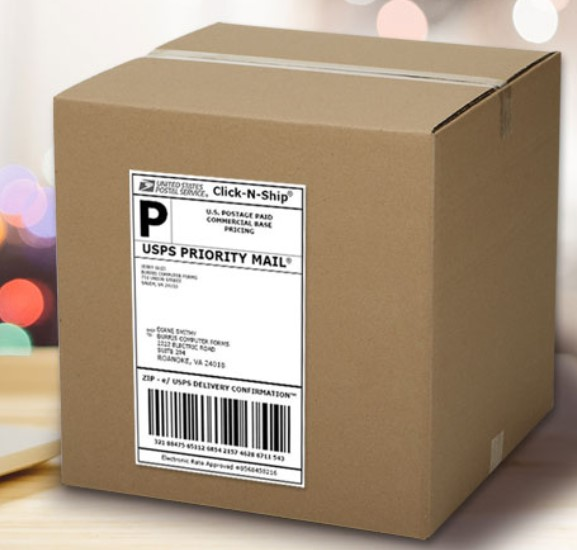Parcel: (53, 97, 435, 541), (426, 51, 561, 541), (53, 23, 561, 132)
